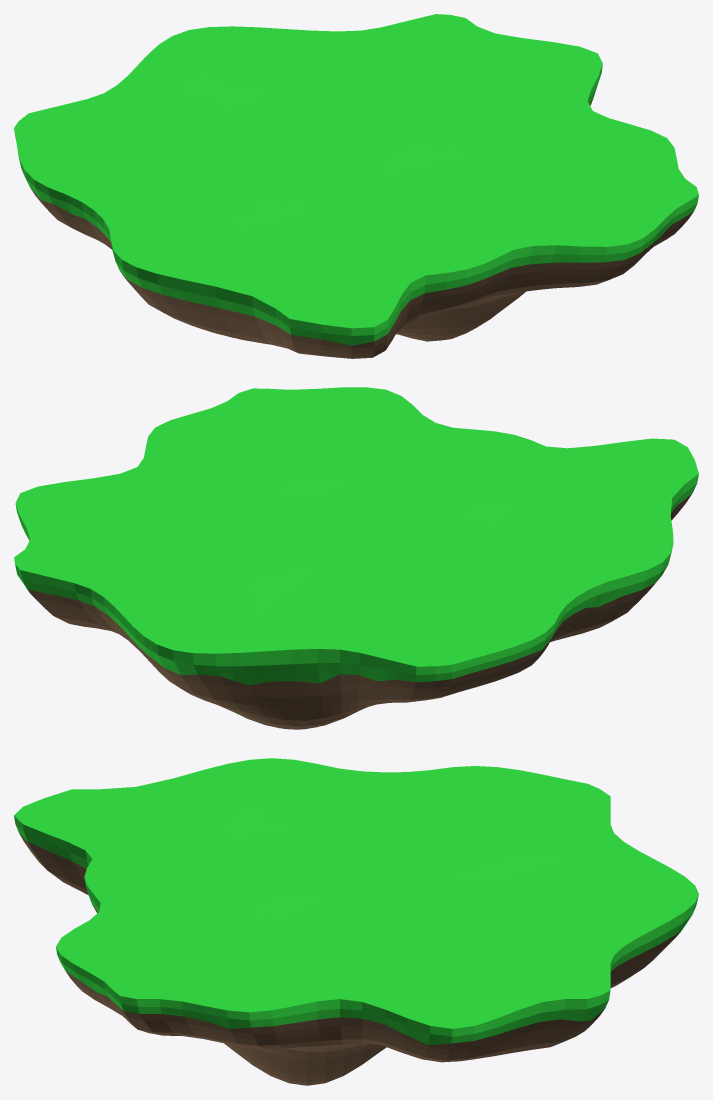
The model's file is Patform02.fbx.
3 renders of one model, top to bottom at view 1: azimuth 30°, elevation 25°; view 2: azimuth 150°, elevation 25°; view 3: azimuth 270°, elevation 25°, orthographic. The views are drawn at different scales.
Visible parts, largest first — view 1: Platform; view 2: Platform; view 3: Platform.
Boxes of the visible parts, <box> form: Platform: <box>14,14,698,358</box>; Platform: <box>14,387,698,729</box>; Platform: <box>14,758,698,1085</box>.
Bounding box in the file's own units: 13.82 × 3.95 × 14.77.
